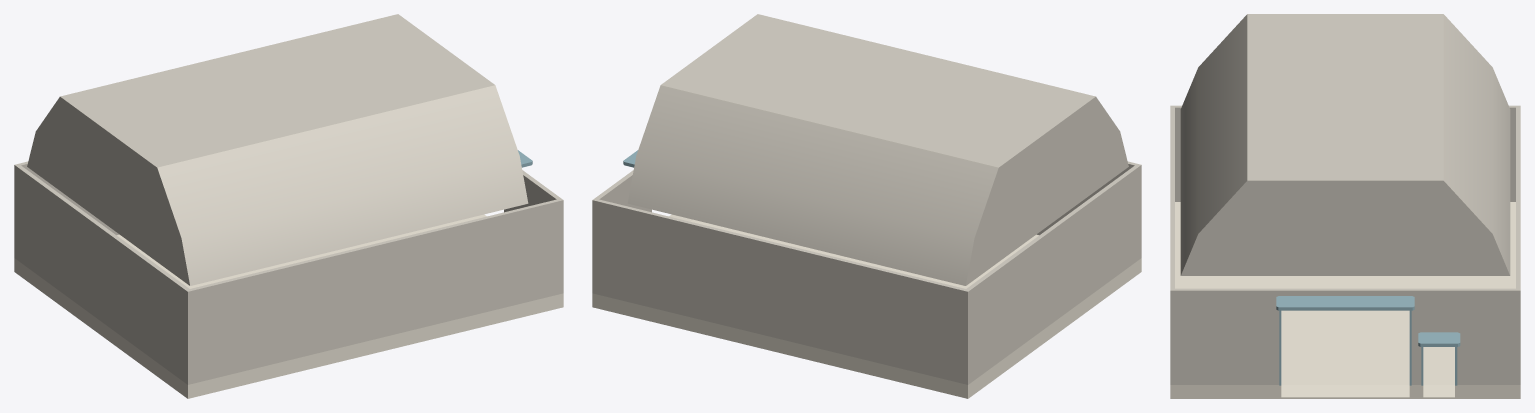
Rendered from Frontier_FreightDepot_ShadowProxy.glb.
3 renders of one model, left to right at view 1: azimuth 30°, elevation 25°; view 2: azimuth 150°, elevation 25°; view 3: azimuth 270°, elevation 25°, orthographic.
Parts seen in each view (by area): view 1: Frontier_FreightDepot_ShadowProxy / Roof, Frontier_FreightDepot_ShadowProxy / Structure, Frontier_FreightDepot_ShadowProxy / Foundation; view 2: Frontier_FreightDepot_ShadowProxy / Roof, Frontier_FreightDepot_ShadowProxy / Structure, Frontier_FreightDepot_ShadowProxy / Foundation; view 3: Frontier_FreightDepot_ShadowProxy / Roof, Frontier_FreightDepot_ShadowProxy / Structure, Frontier_FreightDepot_ShadowProxy / Foundation, Frontier_FreightDepot_ShadowProxy / Entrance modules.
Boxes of the visible parts, x1,y1,x2,y2 form: Frontier_FreightDepot_ShadowProxy / Roof: (27, 14, 528, 285); Frontier_FreightDepot_ShadowProxy / Structure: (14, 161, 563, 384); Frontier_FreightDepot_ShadowProxy / Foundation: (14, 219, 563, 398); Frontier_FreightDepot_ShadowProxy / Roof: (627, 14, 1128, 285); Frontier_FreightDepot_ShadowProxy / Structure: (592, 161, 1141, 384); Frontier_FreightDepot_ShadowProxy / Foundation: (592, 219, 1141, 398); Frontier_FreightDepot_ShadowProxy / Roof: (1180, 14, 1510, 275); Frontier_FreightDepot_ShadowProxy / Structure: (1170, 105, 1520, 384); Frontier_FreightDepot_ShadowProxy / Foundation: (1170, 202, 1520, 398); Frontier_FreightDepot_ShadowProxy / Entrance modules: (1276, 296, 1460, 398).
Size of the model in its own units: 21.2 by 10.25 by 16.
